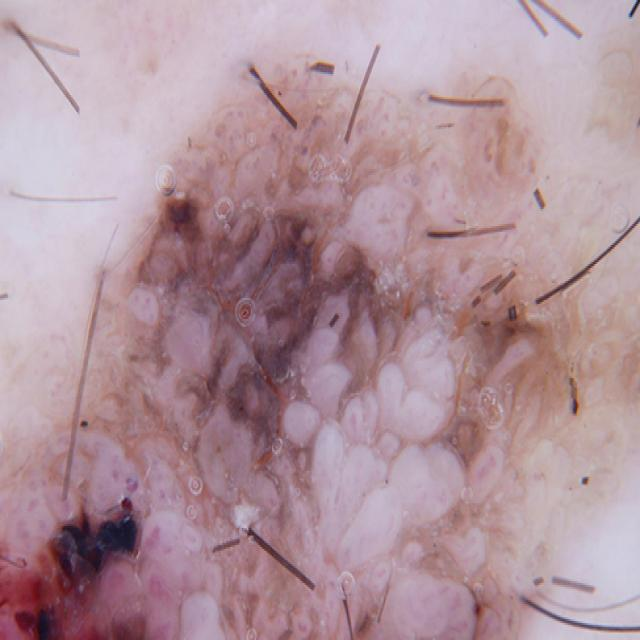Keratosis: (0, 93, 610, 640)
